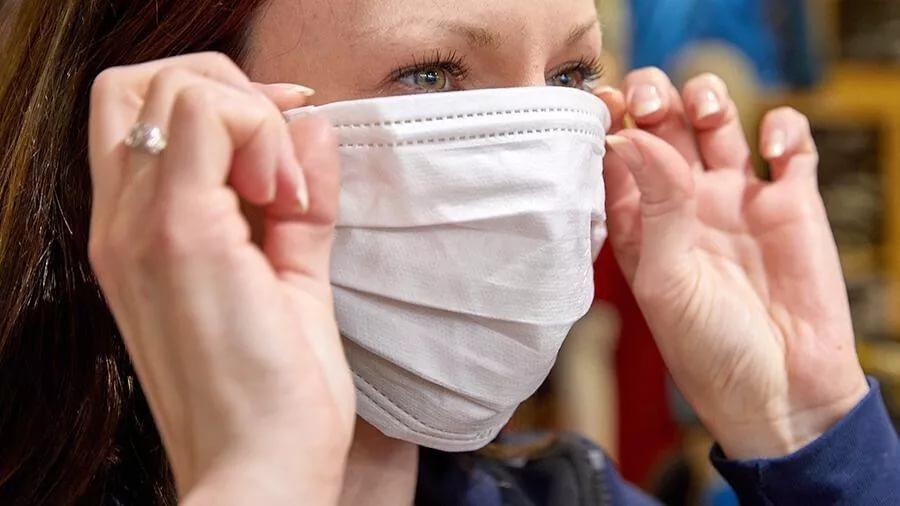mask: (220, 7, 659, 462)
